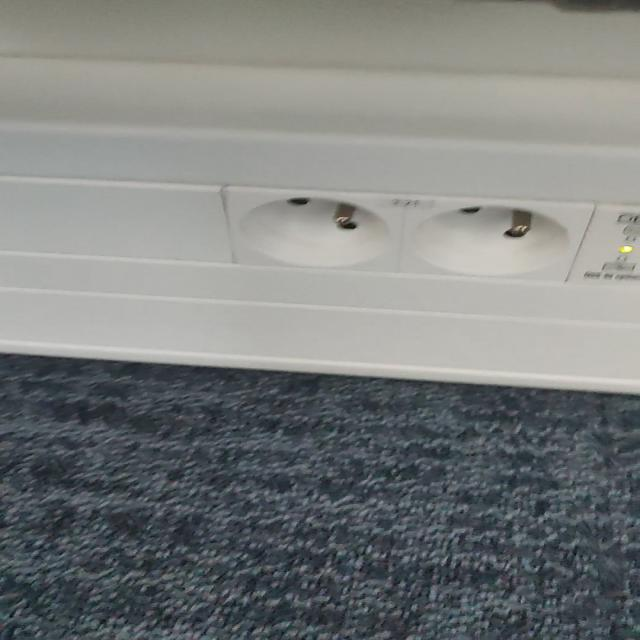house plug: (399, 196, 603, 283), (222, 187, 404, 272)
